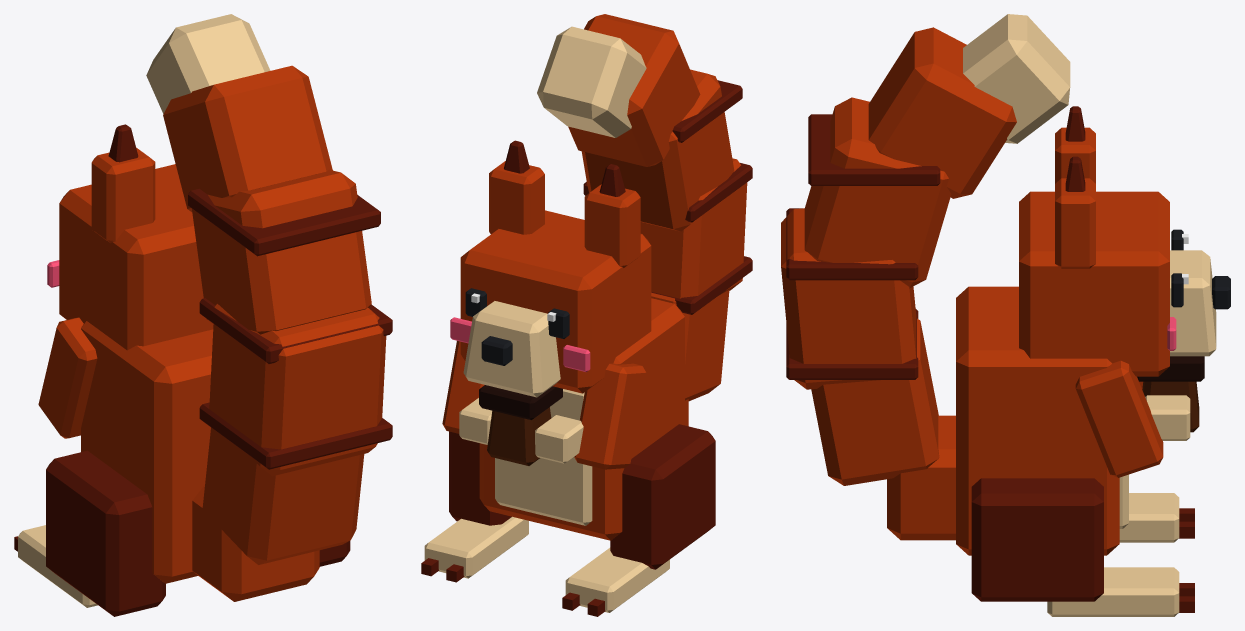
Rendered from Squirrel.fbx.
3 renders of one model, left to right at view 1: azimuth 30°, elevation 25°; view 2: azimuth 150°, elevation 25°; view 3: azimuth 270°, elevation 25°, orthographic. The views are drawn at different scales.
Visible parts, largest first — view 1: Squirrel; view 2: Squirrel; view 3: Squirrel.
Boxes of the visible parts, <box> form: Squirrel: <box>14,14,392,616</box>; Squirrel: <box>421,14,752,616</box>; Squirrel: <box>781,14,1230,616</box>.
Bounding box in the file's own units: 425 × 952 × 715.
